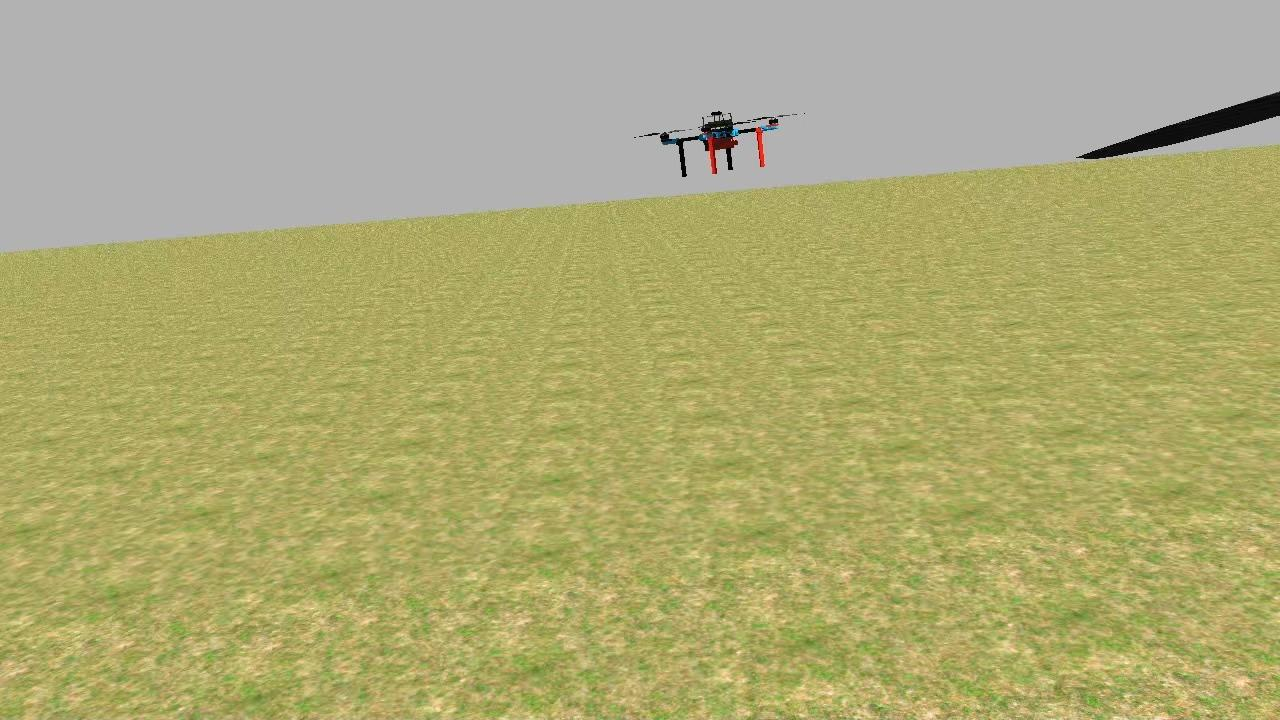UAV: (611, 81, 830, 193)
